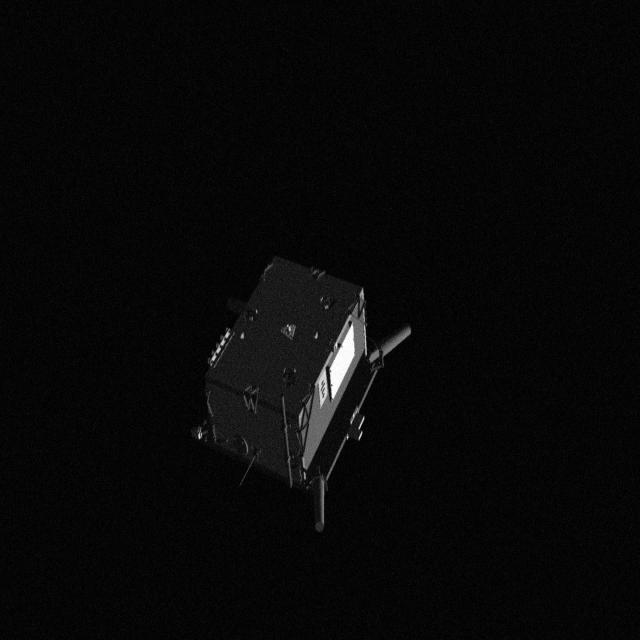medium_debris: (184, 252, 418, 532)
